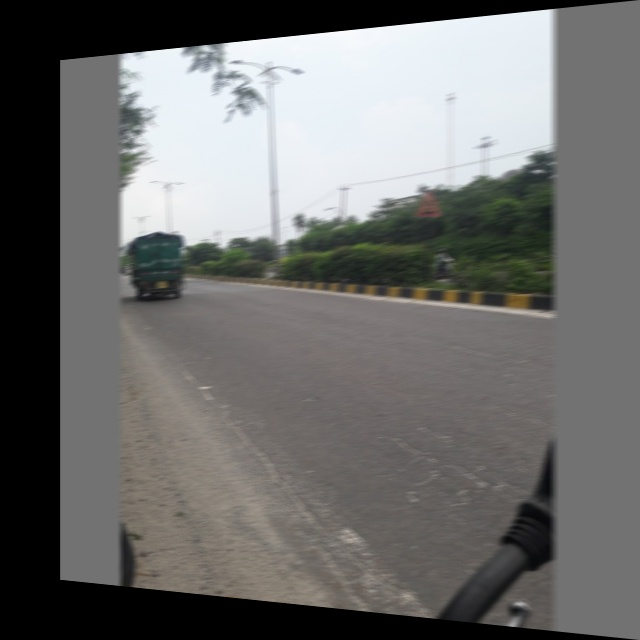Hump_or_Rough_Road: (411, 186, 444, 222)
